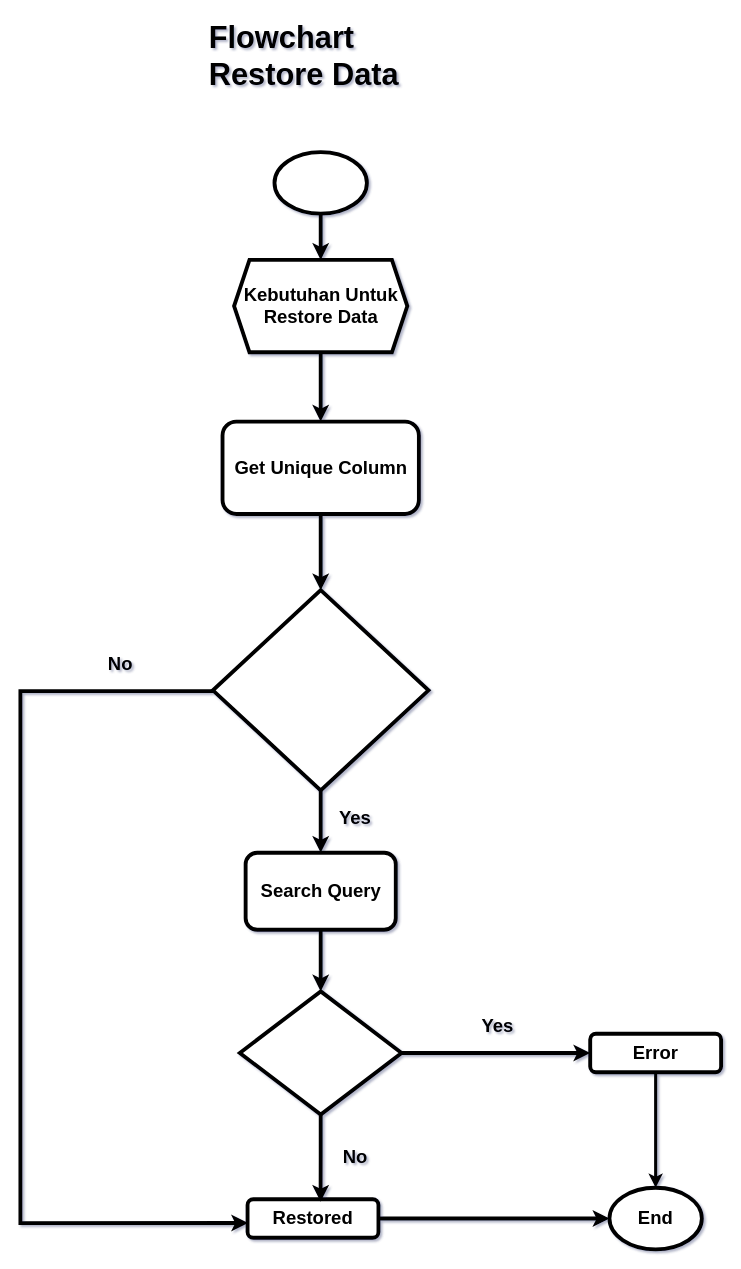
This 741x1269 diagram has some shape labels left out. The shapes that lost their labels are listed below. From the top down, each one's centre as x and y in pixels, then its label:
At pixel 320 182: "Start".
At pixel 320 690: "Check Unique Column".
At pixel 320 1052: "Conflict".
